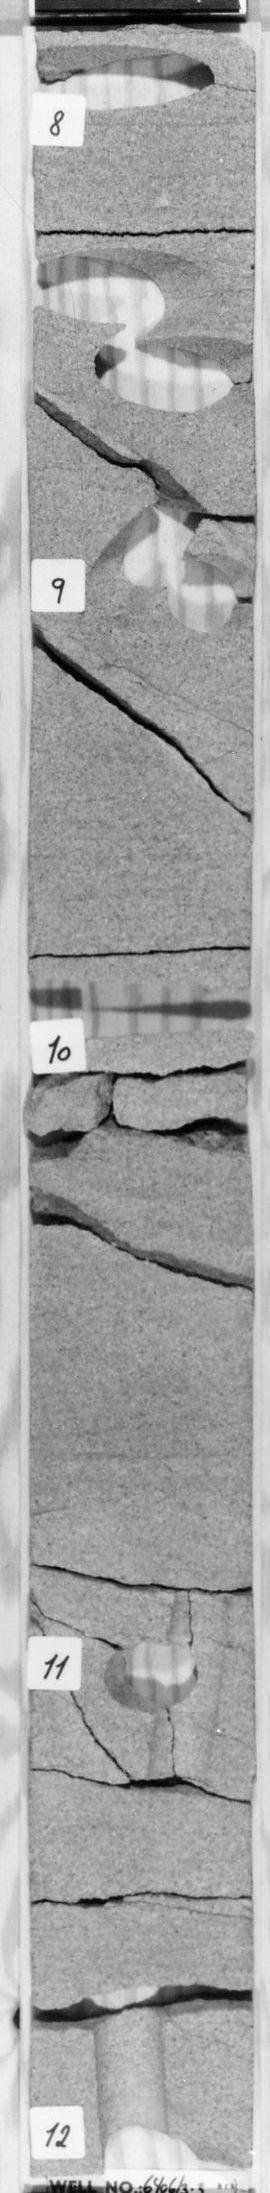hplug: (31, 966, 248, 1043), (43, 42, 234, 115), (97, 1632, 199, 1716), (164, 552, 250, 642)
scal: (36, 241, 241, 333), (87, 329, 253, 422)
vplug: (64, 483, 196, 606), (90, 2015, 169, 2143), (143, 1585, 192, 1783)
